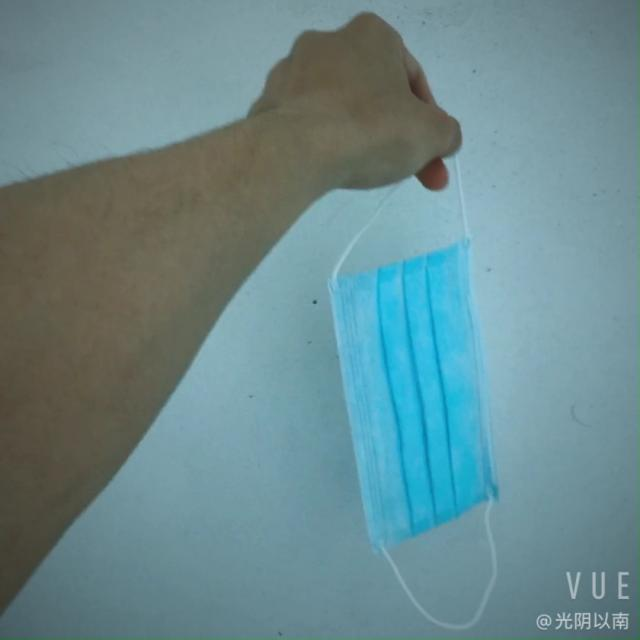non-organic waste: (313, 220, 520, 566)
